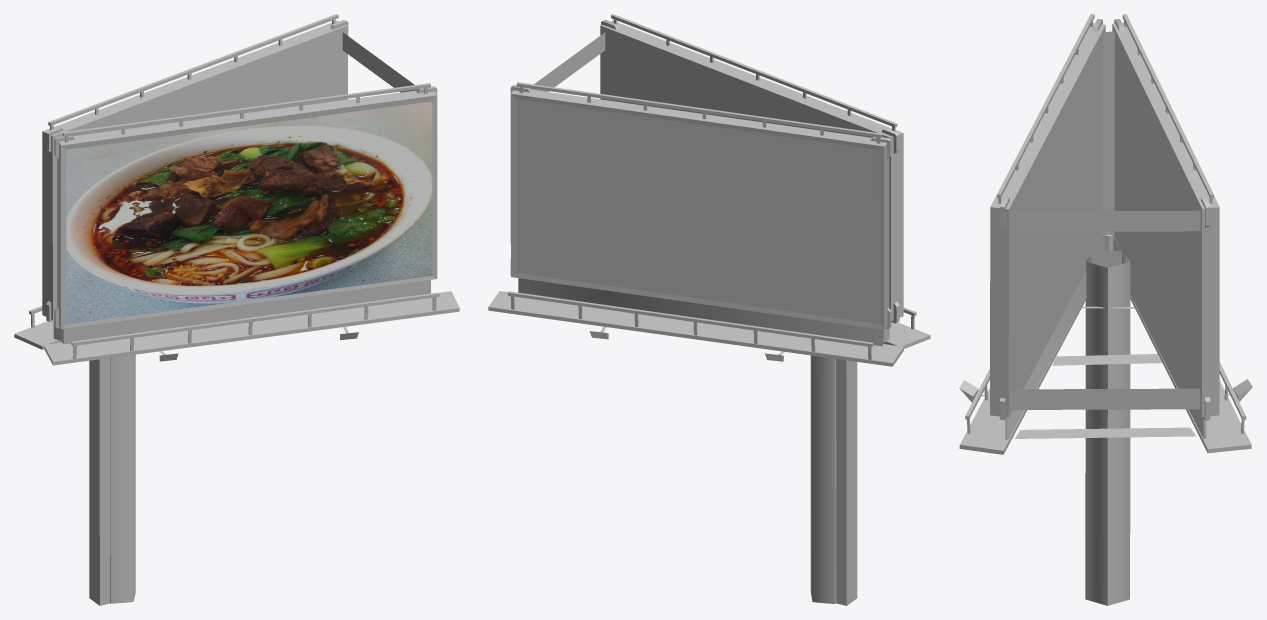
Rendered from beafNoodle.dae.
3 renders of one model, left to right at view 1: azimuth 30°, elevation 25°; view 2: azimuth 150°, elevation 25°; view 3: azimuth 270°, elevation 25°, orthographic. The views are drawn at different scales.
Visible parts, largest first — view 1: beafNoodle, Base; view 2: Pic1, Base; view 3: Base.
Part boxes in pixels (box(x1,y1,x2,y2)): beafNoodle: box(66, 101, 432, 324); Base: box(14, 14, 459, 605); Pic1: box(516, 99, 879, 324); Base: box(488, 14, 930, 605); Base: box(959, 14, 1252, 605).
Size of the model in its own units: 724 by 900 by 437.
